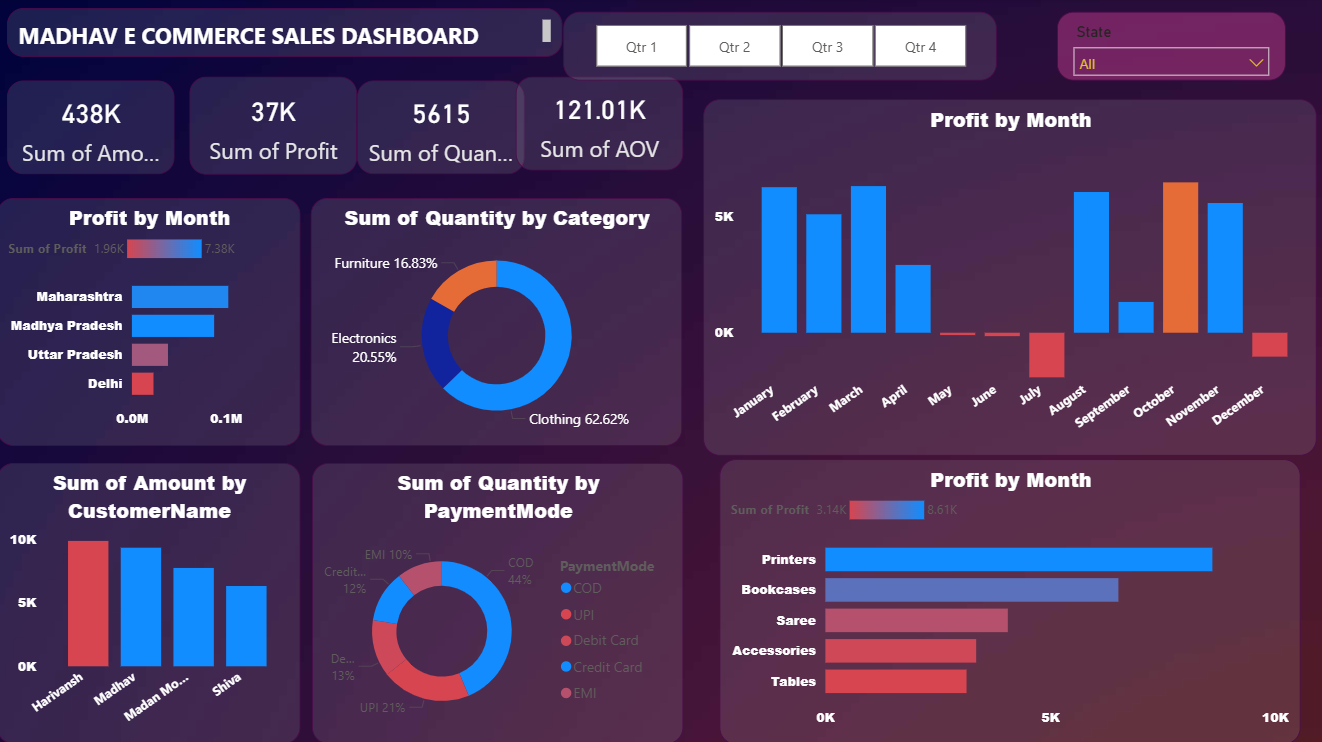

The dashboard page shown, as its layout file describes it:
{"tool":"powerbi","page":{"name":"Page 1","canvas":[1280,720],"ordinal":0},"visuals":[{"type":"textbox","box":[9.7,9.7,535.7,47.1],"z":0},{"type":"columnChart","title":" Profit by Month","fields":{"Category":["Orders.Order Date.Variation.Date Hierarchy.Month"],"Y":["Sum(Details.Profit)"]},"box":[681.6,97.7,592.4,343.8],"z":1000},{"type":"clusteredBarChart","title":" Profit by Month","fields":{"Y":["Sum(Details.Profit)"],"Category":["Details.Sub-Category"]},"box":[697.3,445.2,561,275.1],"z":2000},{"type":"donutChart","fields":{"Category":["Details.Category"],"Y":["Sum(Details.Quantity)"]},"box":[302.8,193,358.3,238.9],"z":3000},{"type":"donutChart","fields":{"Category":["Details.PaymentMode"],"Y":["Sum(Details.Quantity)"]},"box":[304,448.8,358.3,271.4],"z":4000},{"type":"card","fields":{"Values":["Sum(Details.Amount)"]},"box":[9.7,79.6,161.7,90.5],"z":5000},{"type":"card","fields":{"Values":["Sum(Details.Quantity)"]},"box":[347.5,79.6,161.7,90.5],"z":6000},{"type":"card","fields":{"Values":["Sum(Details.Profit)"]},"box":[185.8,76,161.7,94.1],"z":7000},{"type":"card","fields":{"Values":["Sum(Details.AOV)"]},"box":[500.7,76,161.7,90.5],"z":8000},{"type":"clusteredBarChart","title":" Profit by Month","fields":{"Category":["Orders.State"],"Y":["Sum(Details.Amount)"]},"box":[0,193,293.2,238.9],"z":9000},{"type":"columnChart","fields":{"Category":["Orders.CustomerName"],"Y":["Sum(Details.Amount)"]},"box":[0,449,293,271],"z":10000},{"type":"slicer","fields":{"Values":["Orders.Order Date.Variation.Date Hierarchy.Quarter"]},"box":[546.5,13.3,418.6,66.4],"z":11000},{"type":"slicer","fields":{"Values":["Orders.State"]},"box":[1023.1,13.3,220.8,66.4],"z":12000}]}

Visuals, with their boxes in screenshot pixels (x1, y1, x2, y2), scaled from the page's 1280x720 canvas onto the 1322x742 screenshot:
textbox: (x1=10, y1=10, x2=563, y2=59)
" Profit by Month" columnChart: (x1=704, y1=101, x2=1316, y2=455)
" Profit by Month" clusteredBarChart: (x1=720, y1=459, x2=1300, y2=741)
donutChart - Details.Category x Sum(Details.Quantity): (x1=313, y1=199, x2=683, y2=445)
donutChart - Details.PaymentMode x Sum(Details.Quantity): (x1=314, y1=463, x2=684, y2=741)
card - Sum(Details.Amount): (x1=10, y1=82, x2=177, y2=175)
card - Sum(Details.Quantity): (x1=359, y1=82, x2=526, y2=175)
card - Sum(Details.Profit): (x1=192, y1=78, x2=359, y2=175)
card - Sum(Details.AOV): (x1=517, y1=78, x2=684, y2=172)
" Profit by Month" clusteredBarChart: (x1=0, y1=199, x2=303, y2=445)
columnChart - Orders.CustomerName x Sum(Details.Amount): (x1=0, y1=463, x2=303, y2=741)
slicer - Orders.Order Date.Variation.Date Hierarchy.Quarter: (x1=564, y1=14, x2=997, y2=82)
slicer - Orders.State: (x1=1057, y1=14, x2=1285, y2=82)
